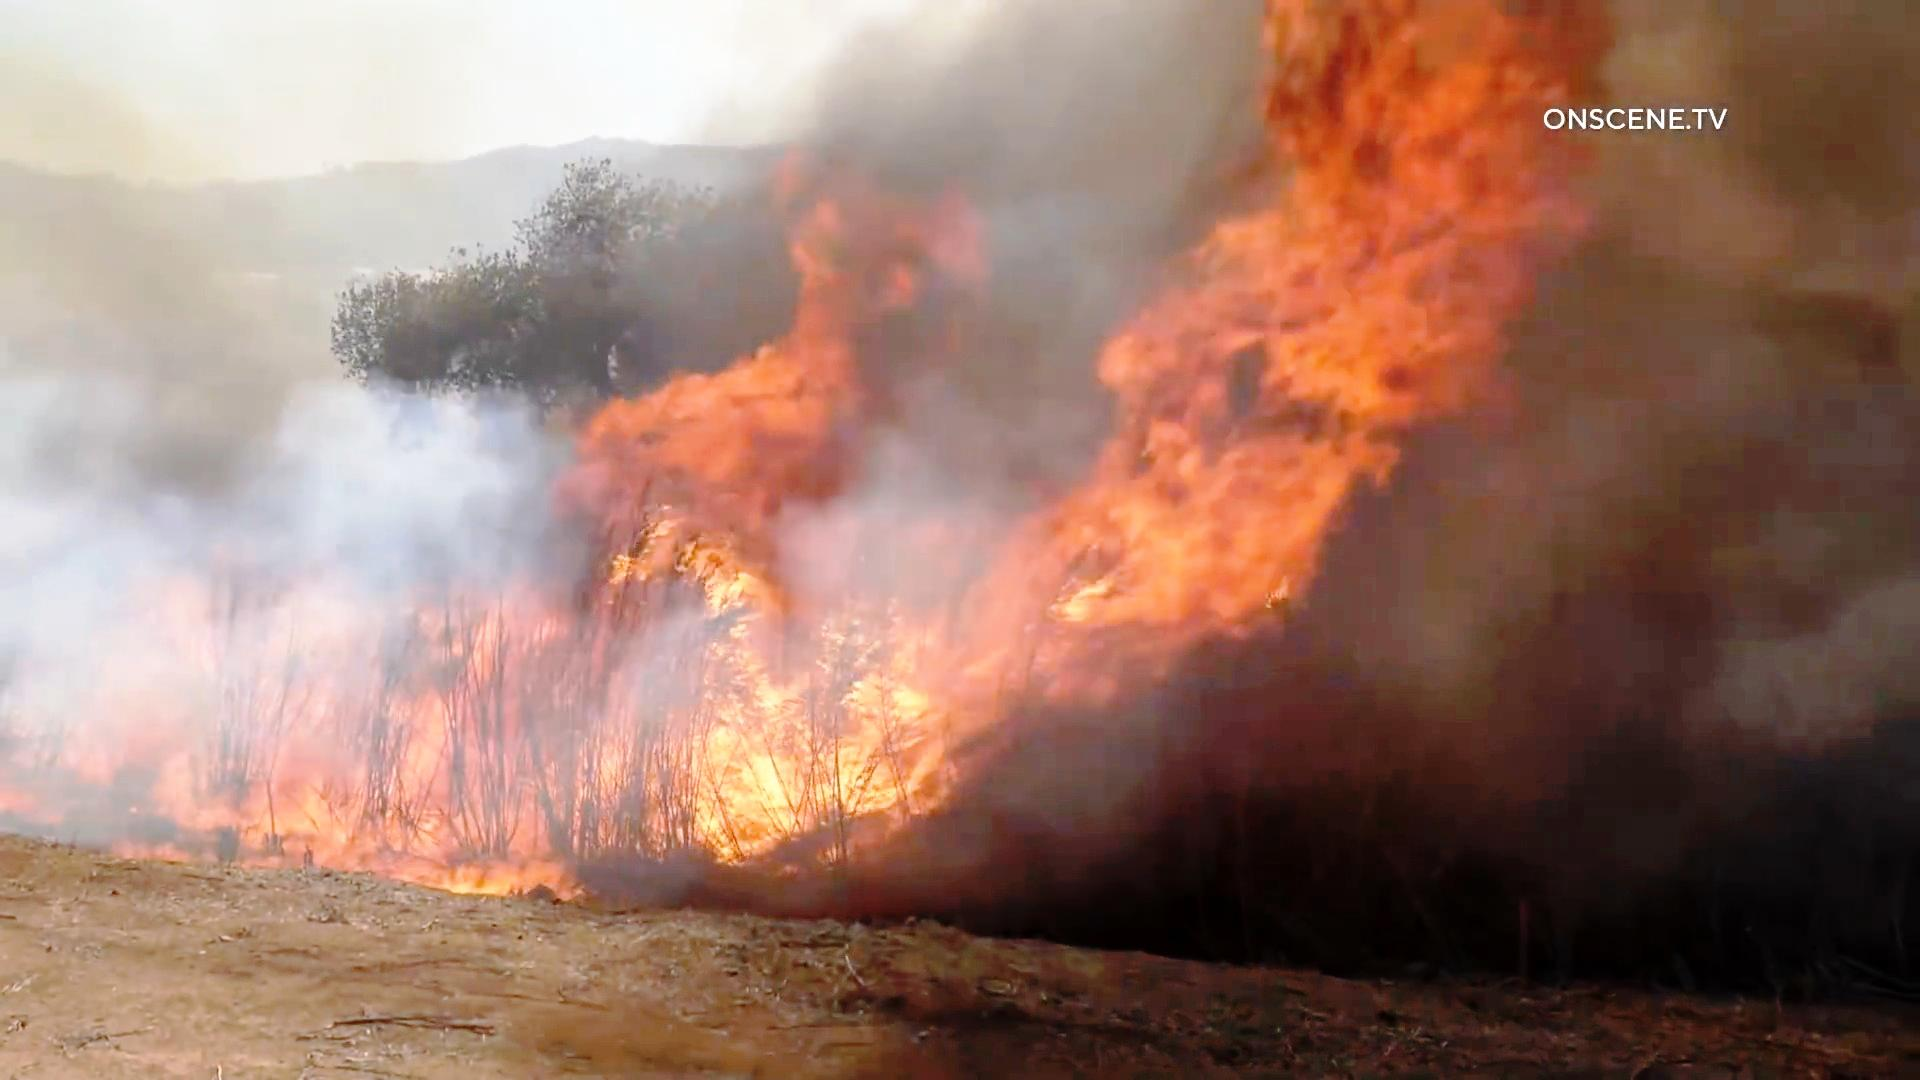fire: (957, 258, 1358, 731), (562, 190, 960, 588), (103, 574, 599, 864), (621, 583, 942, 889)
smoke: (0, 53, 295, 518), (1568, 318, 1873, 754)
